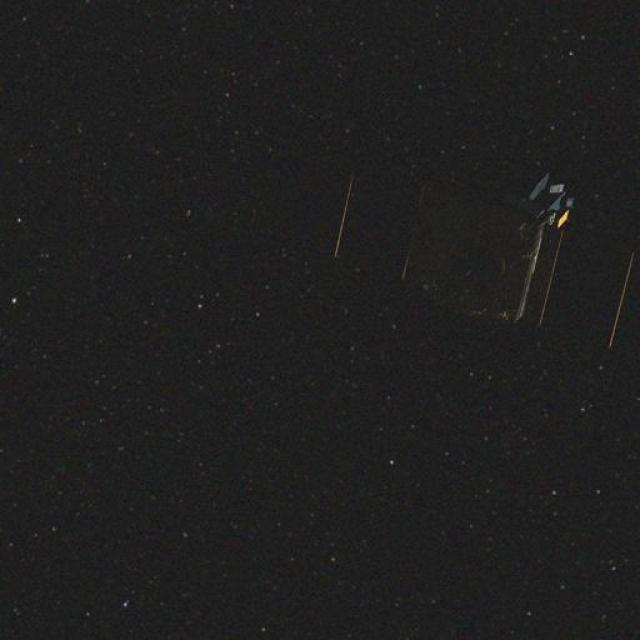soho: (350, 147, 640, 347)
